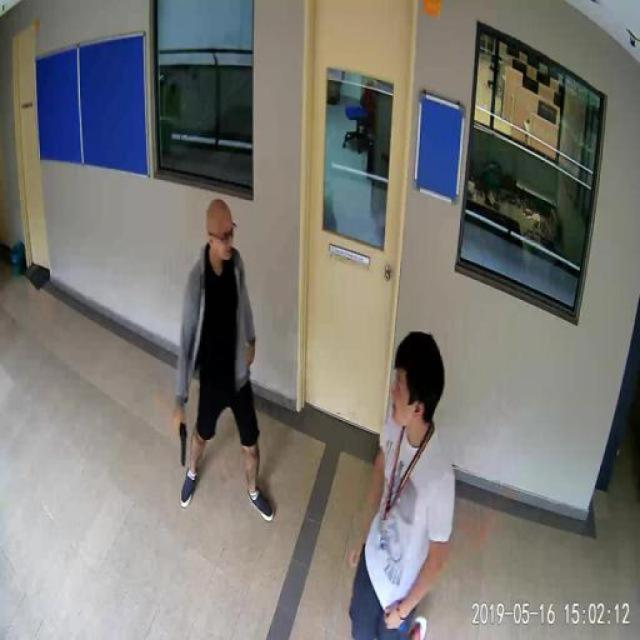pistol: (174, 413, 185, 467)
